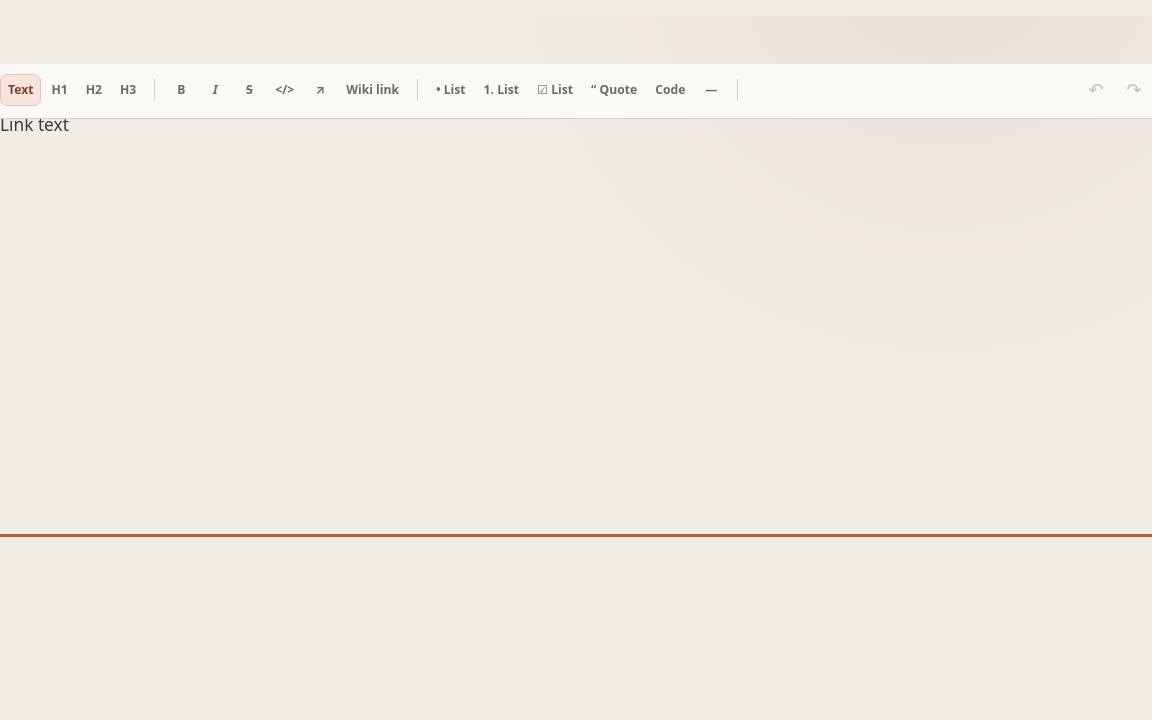
it: PageEditor › rejects unsafe link URLs in the link form
The image size is (1152, 720).
Click the button named "Link": (320, 90) [304,74,336,106]
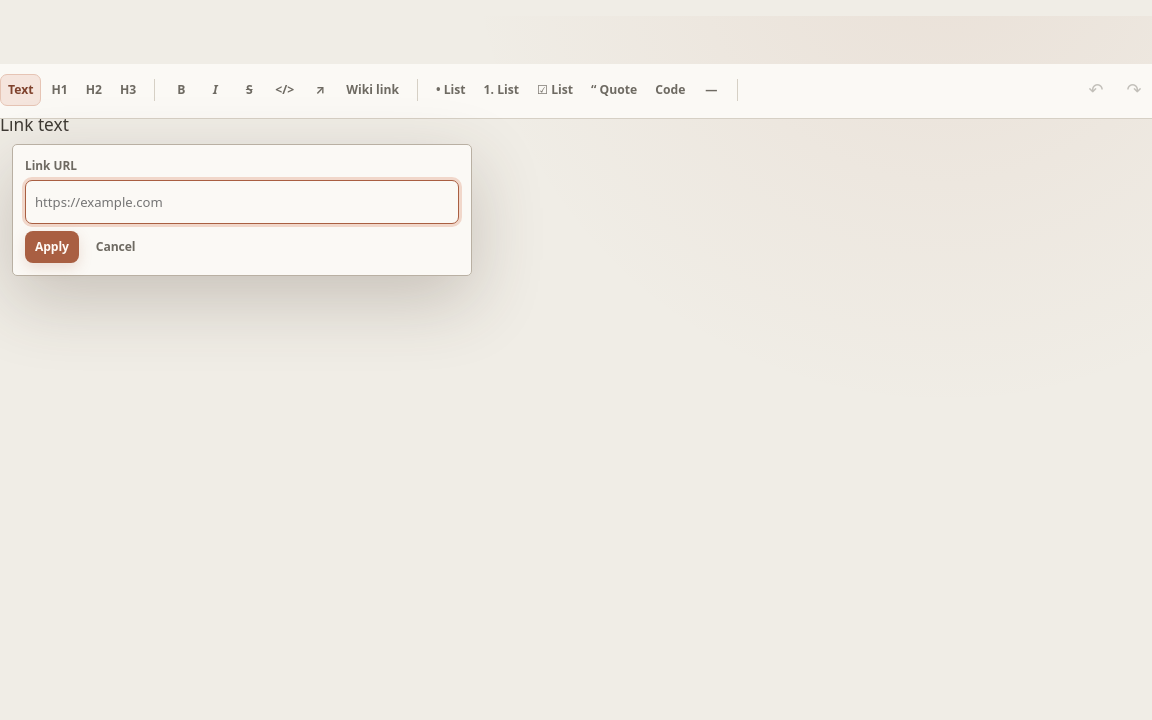
In the field labelled "Link URL": (242, 202) [25,180,459,224], type "javascript:alert(1)"
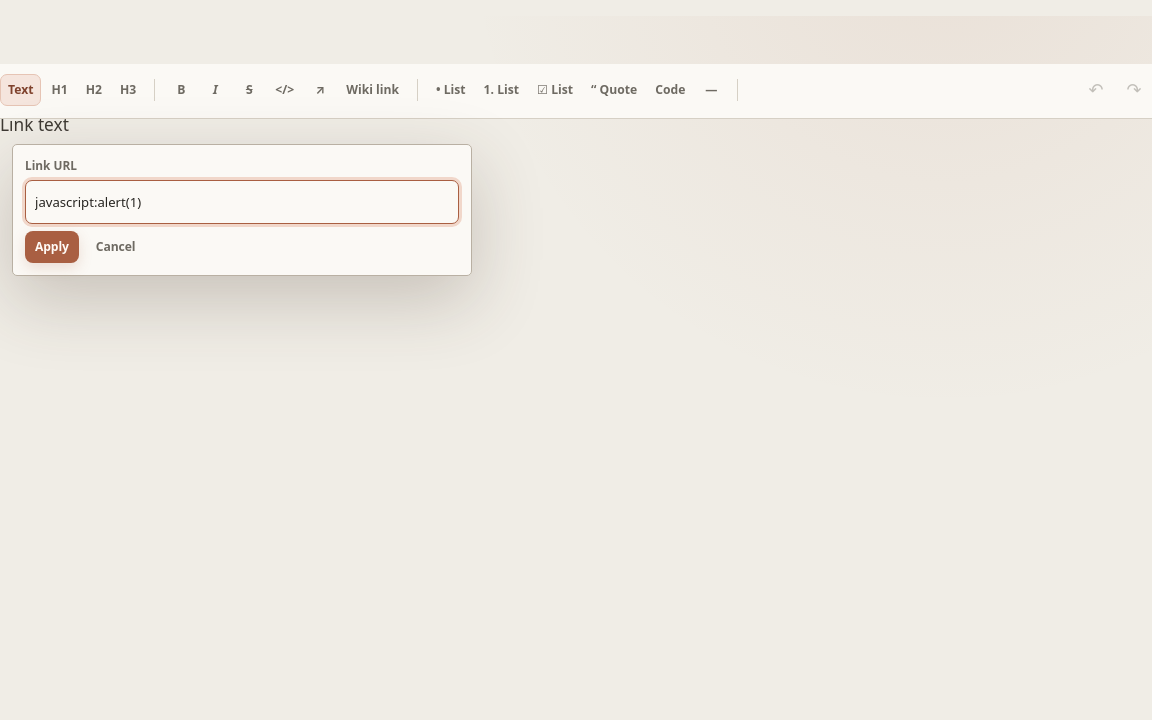
Click the button "Apply": (52, 247) [25,231,79,263]
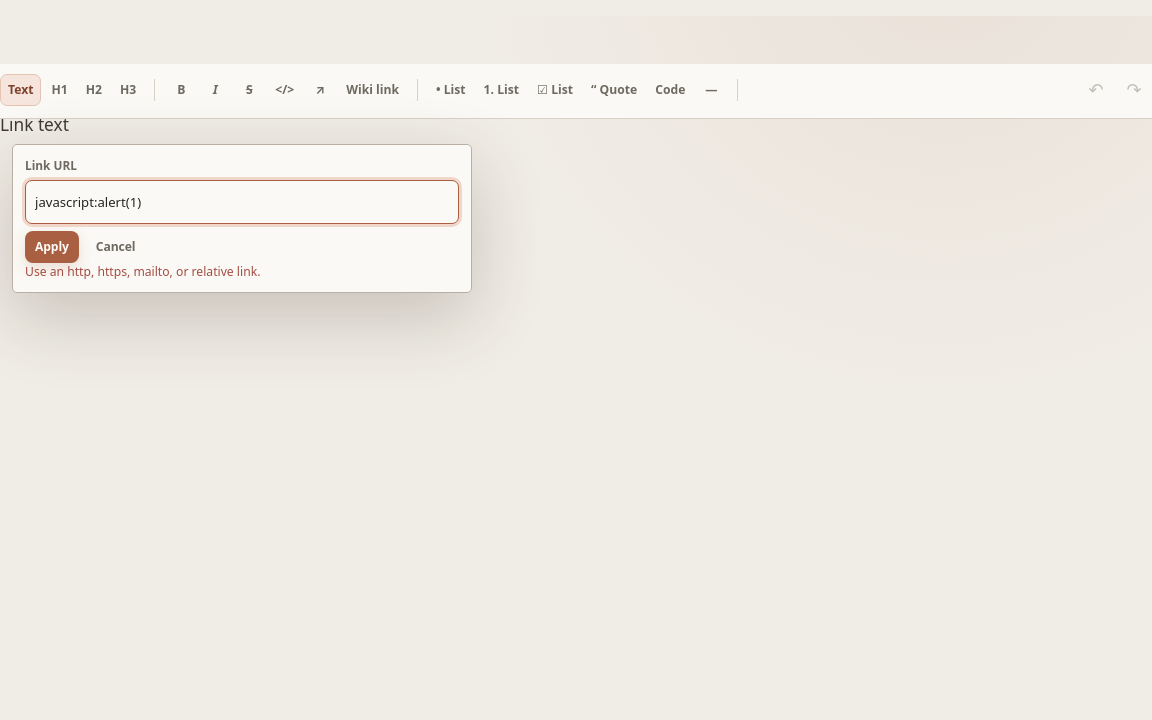
Check: the message shows "http, https, mailto", box [25,263,260,280]
